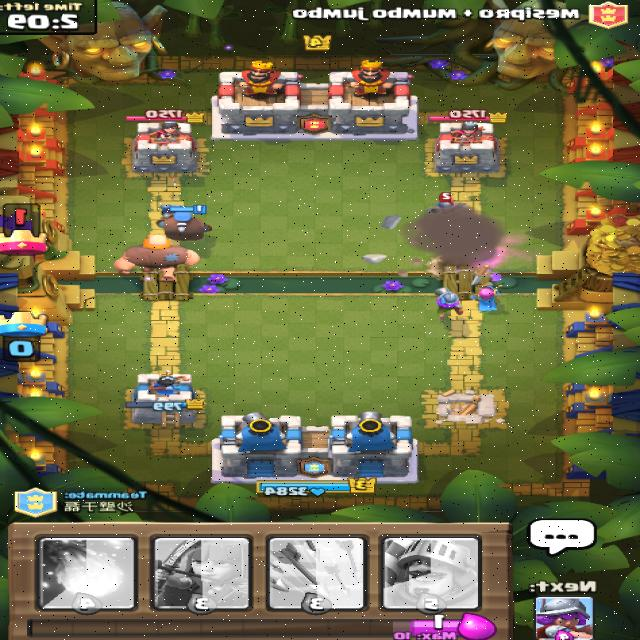Enemy-Musketeer: (428, 190, 459, 214)
Player-Archer: (470, 282, 506, 313)
Player-Giant: (114, 232, 202, 282)
Player-Hunter: (155, 202, 216, 240)
Player-Musketeer: (433, 287, 468, 323)
